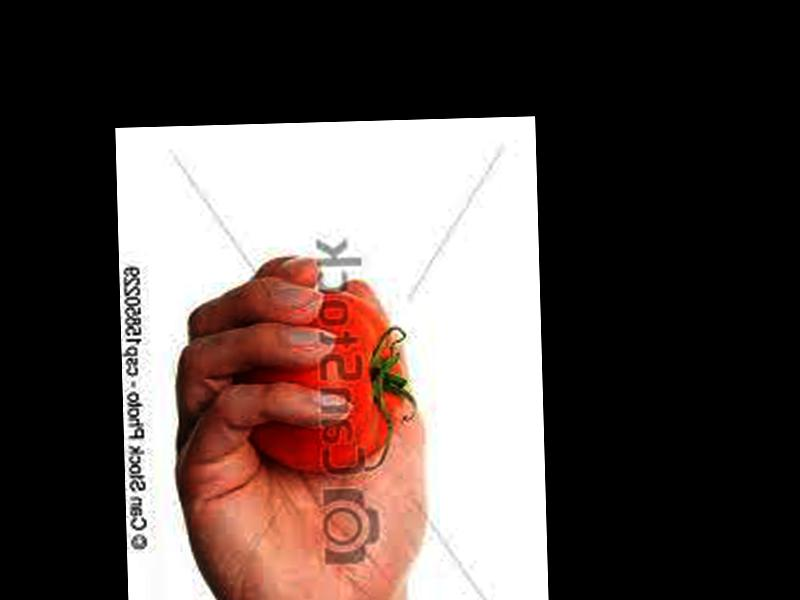Tomato: (237, 289, 404, 470)
